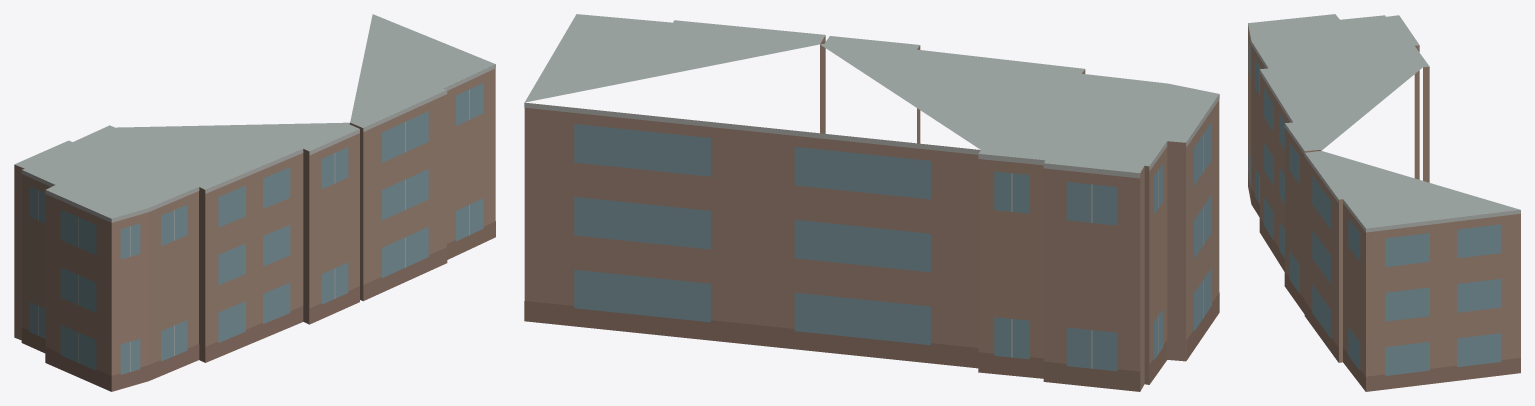
File: survey-upis-32813941.glb
3 views of the same model, side by side, from view 1: azimuth 30°, elevation 25°; view 2: azimuth 150°, elevation 25°; view 3: azimuth 270°, elevation 25° (orthographic). The views are drawn at different scales.
Visible parts, largest first — view 1: survey-upis-32813941.tmp; view 2: survey-upis-32813941.tmp; view 3: survey-upis-32813941.tmp.
Part boxes in pixels (x1=…): survey-upis-32813941.tmp: x1=14, y1=14, x2=495, y2=391; survey-upis-32813941.tmp: x1=524, y1=14, x2=1219, y2=391; survey-upis-32813941.tmp: x1=1248, y1=14, x2=1520, y2=391.
Bounding box in the file's own units: 29.2 × 10.35 × 15.69.
